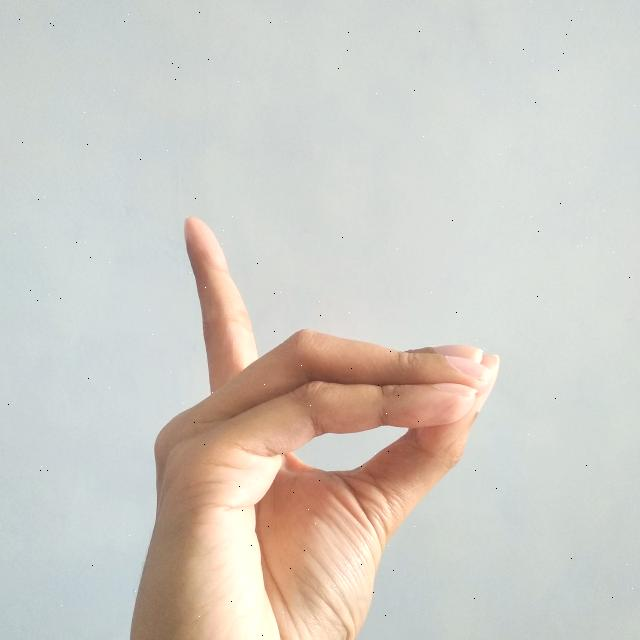D: (132, 214, 502, 640)
